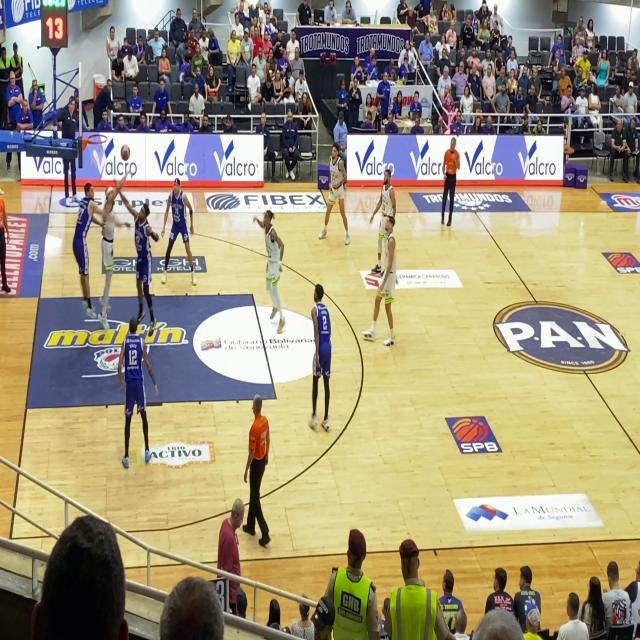Ball: (119, 142, 132, 160)
team1: (248, 196, 287, 335), (99, 175, 131, 318), (369, 213, 402, 350), (320, 140, 352, 246), (369, 156, 402, 232)
team2: (118, 314, 161, 474), (305, 276, 336, 442), (162, 175, 200, 293), (67, 169, 97, 318), (128, 197, 154, 310)
ubasket: (86, 132, 110, 154)
